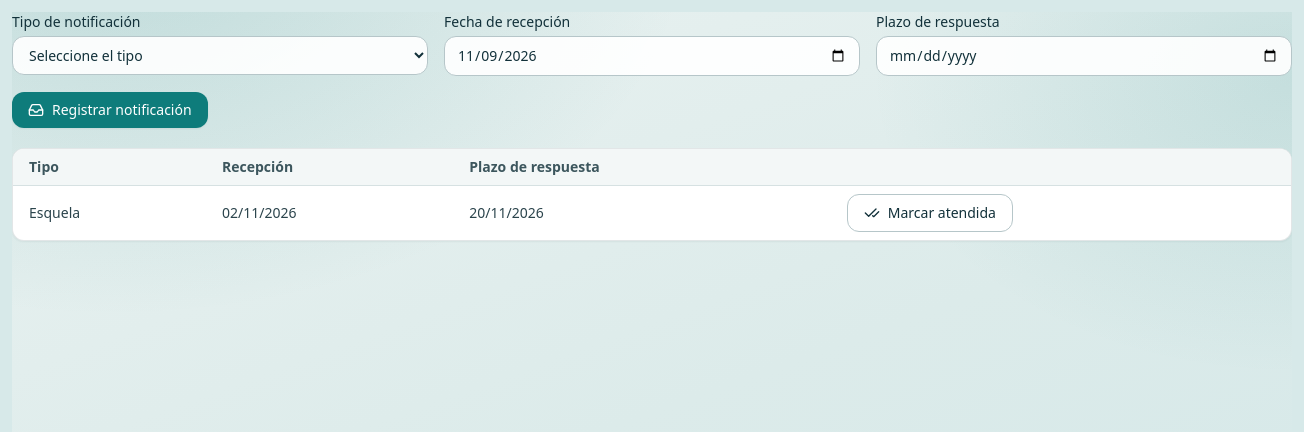
Test: Notificaciones del Buzón SOL en la ficha (HU-18, T65, T66 y T67) › «Marcar atendida» pide confirmar, marca la notificación y la saca de la lista
Step 1. Click the button "Marcar atendida" → (930, 213), box x1=847 y1=194 x2=1013 y2=232
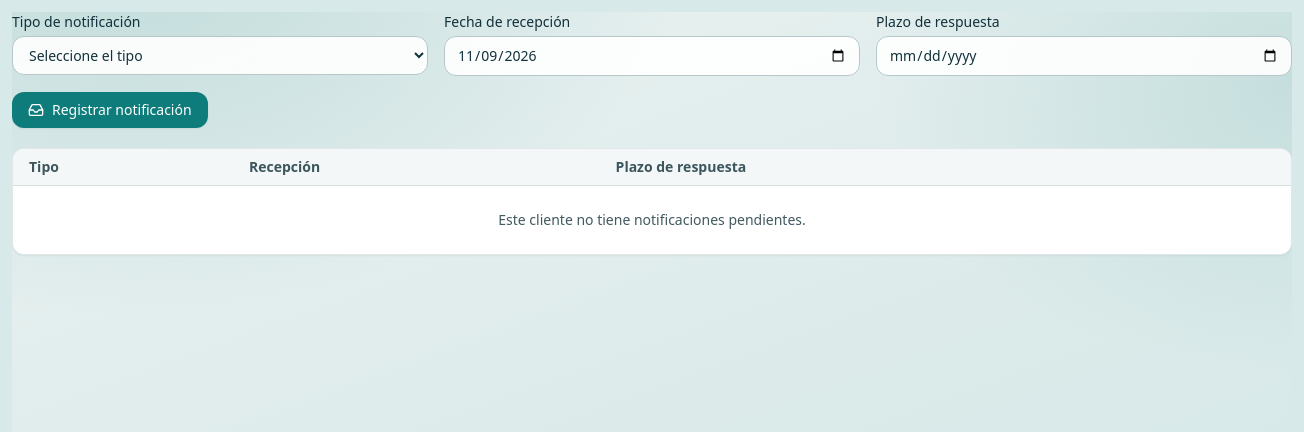
expect the text "Este cliente no tiene notificaciones pendientes." is shown: met, box x1=13 y1=186 x2=1291 y2=254
